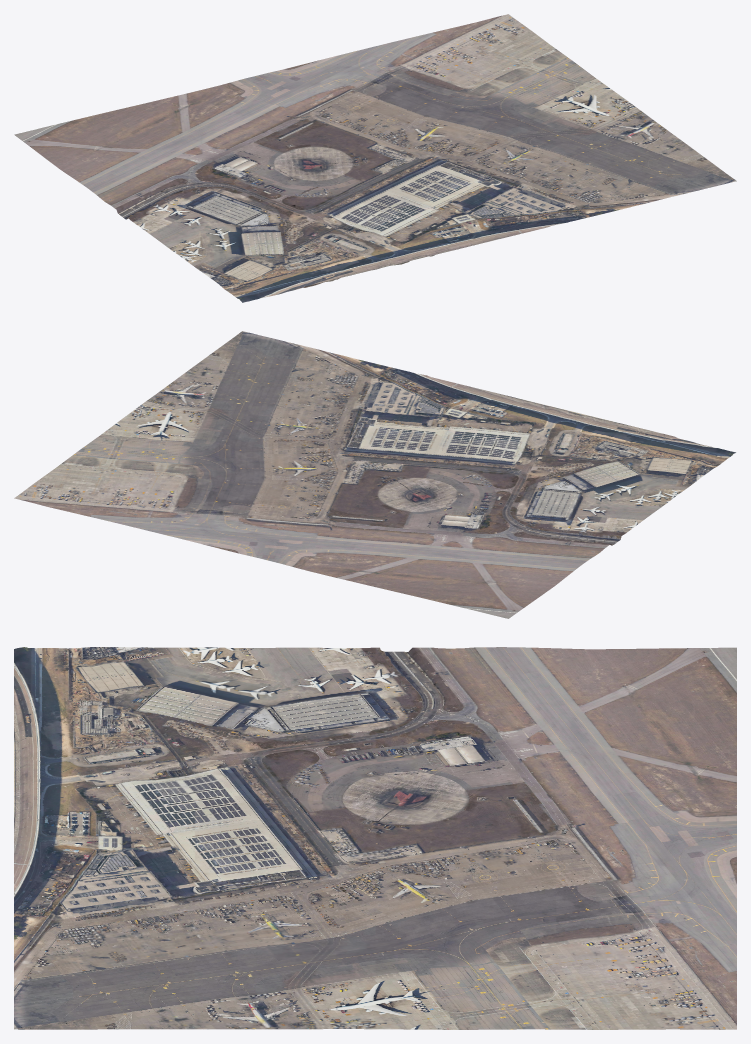
The model's file is terrain_02.glb.
3 renders of one model, top to bottom at view 1: azimuth 30°, elevation 25°; view 2: azimuth 150°, elevation 25°; view 3: azimuth 270°, elevation 25°, orthographic. The views are drawn at different scales.
Visible parts, largest first — view 1: T09000174000106E11.001; view 2: T09000174000106E11.001; view 3: T09000174000106E11.001.
Boxes of the visible parts, x1,y1,x2,y2 form: T09000174000106E11.001: (14, 14, 736, 302); T09000174000106E11.001: (14, 331, 735, 618); T09000174000106E11.001: (14, 647, 736, 1029).
Bounding box in the file's own units: 750 × 5.59 × 600.
1 material, 1 textured.
